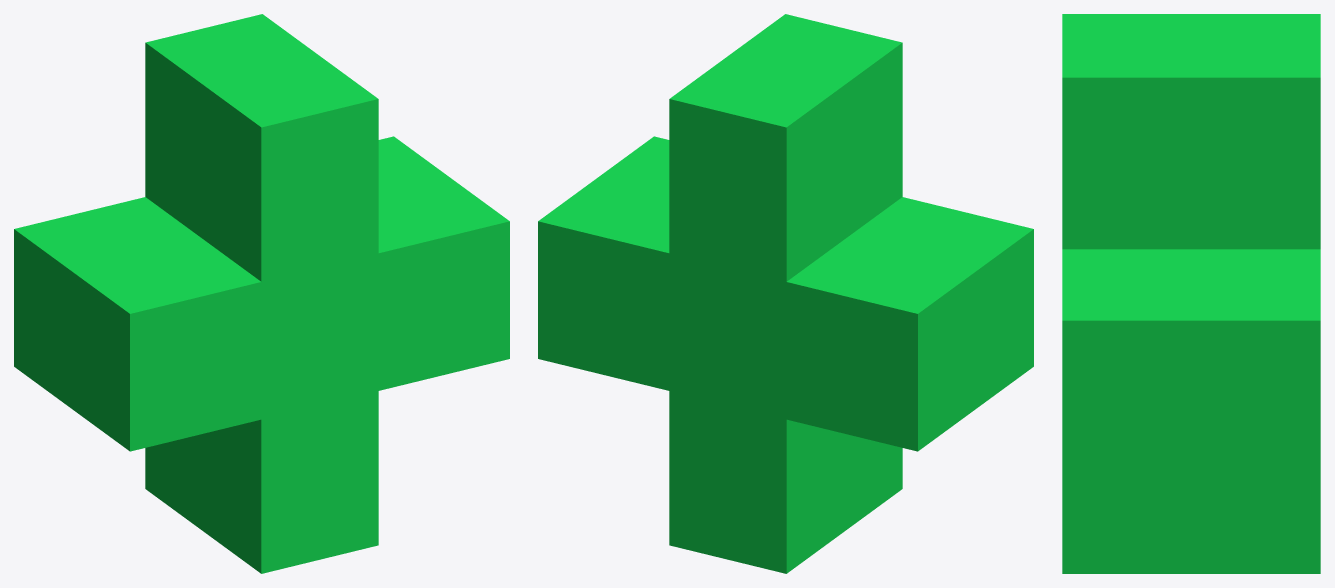
The model's file is HPheal.obj.
The picture shows the model from 3 angles, left to right: view 1: azimuth 30°, elevation 25°; view 2: azimuth 150°, elevation 25°; view 3: azimuth 270°, elevation 25°; orthographic projection. The views are drawn at different scales.
Visible parts, largest first — view 1: 立方体; view 2: 立方体; view 3: 立方体.
Boxes of the visible parts, x1,y1,x2,y2 form: 立方体: (14, 14, 509, 573); 立方体: (538, 14, 1033, 573); 立方体: (1062, 14, 1320, 573).
Size of the model in its own units: 2 by 2.25 by 1.06.
